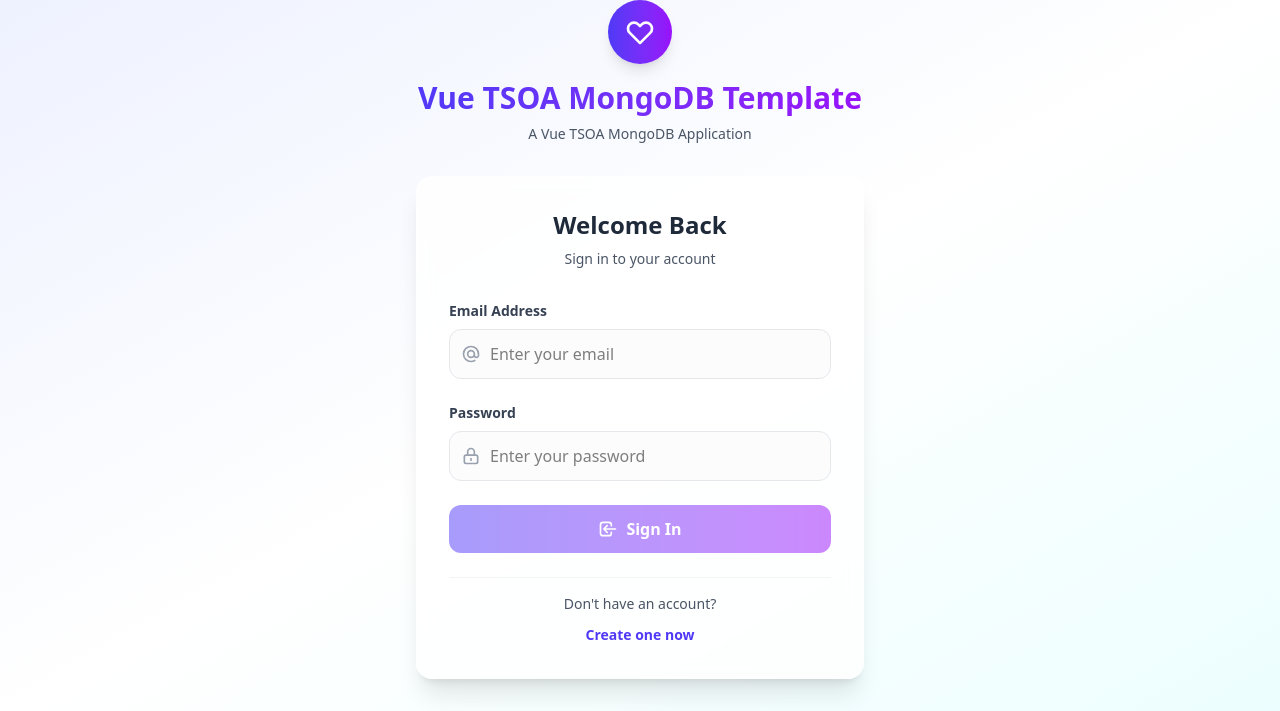
Test: AdminLogin.vue › validates email format
Type "invalid-email" into the field with id "email" at (640, 354), box [449,329,831,379]
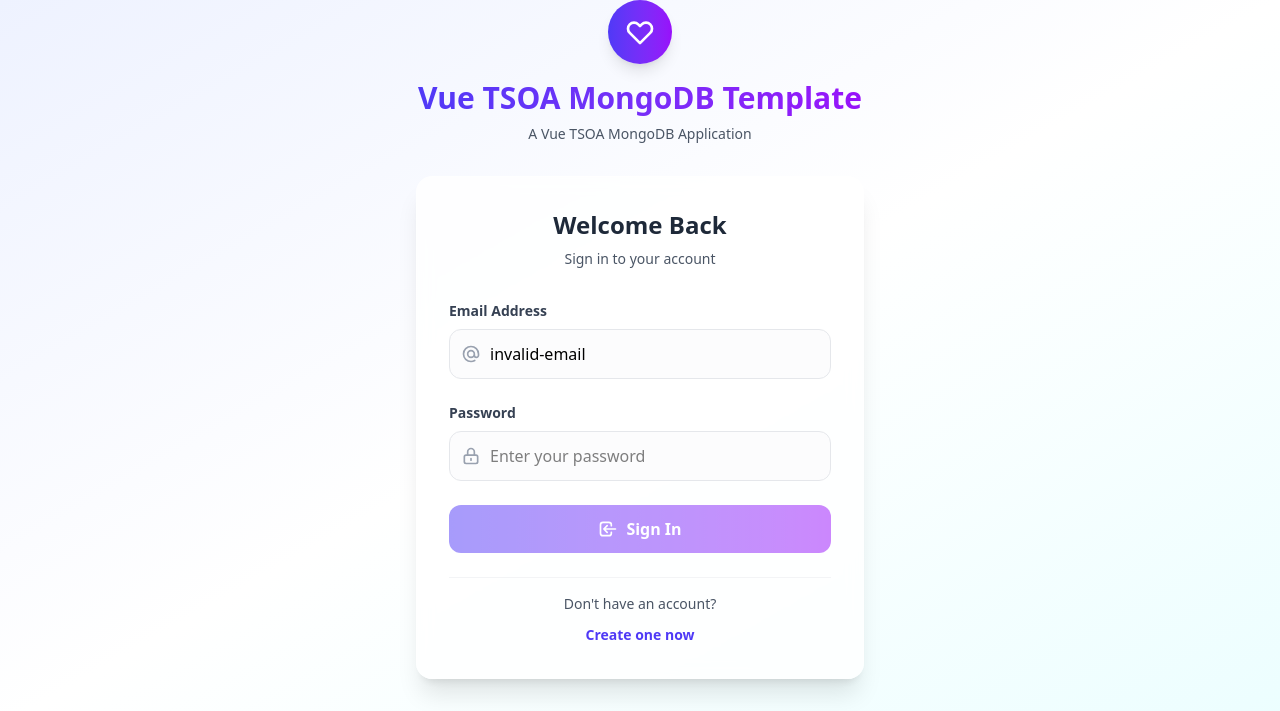
Leave the field with id "email", box [449,329,831,379]
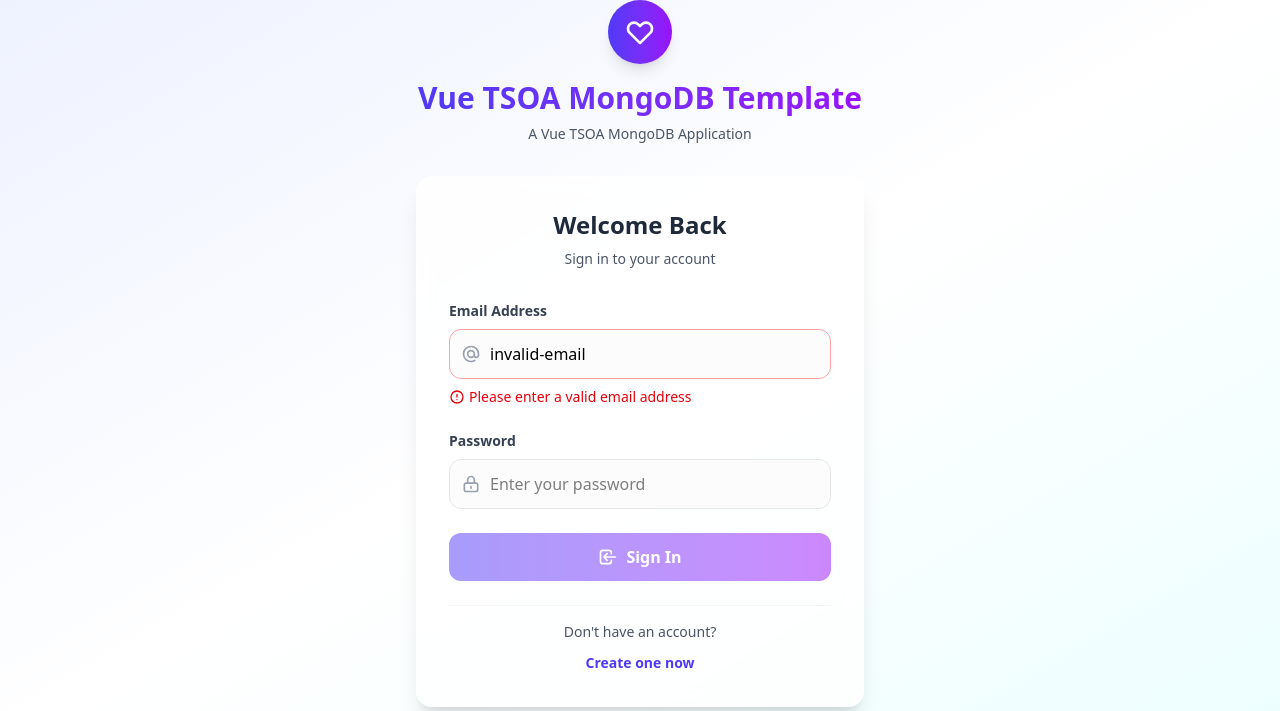
Expected: the text "Please enter a valid email address" is shown, [449,387,692,406]
